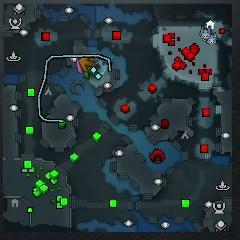x1: (75, 56, 97, 76)
x4: (78, 60, 98, 80)
x5: (80, 56, 101, 72)
